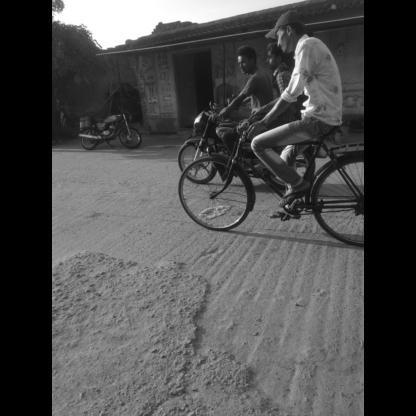Bicycle: (171, 88, 367, 253)
